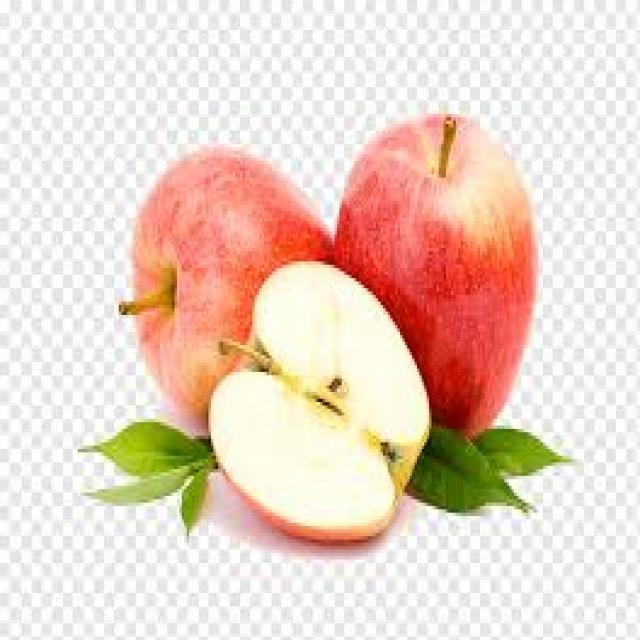Apple: (336, 118, 538, 441), (208, 261, 432, 550), (130, 147, 332, 408)
